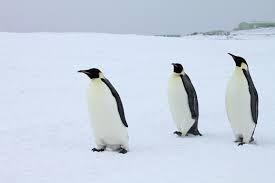emporer: (70, 61, 140, 161), (155, 56, 210, 149), (214, 49, 265, 148)
